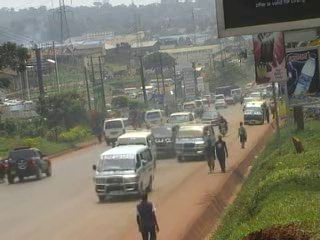Car: (5, 142, 53, 185), (199, 105, 223, 127), (213, 98, 228, 110), (222, 93, 234, 105)
Motorcycle: (216, 114, 228, 138)
